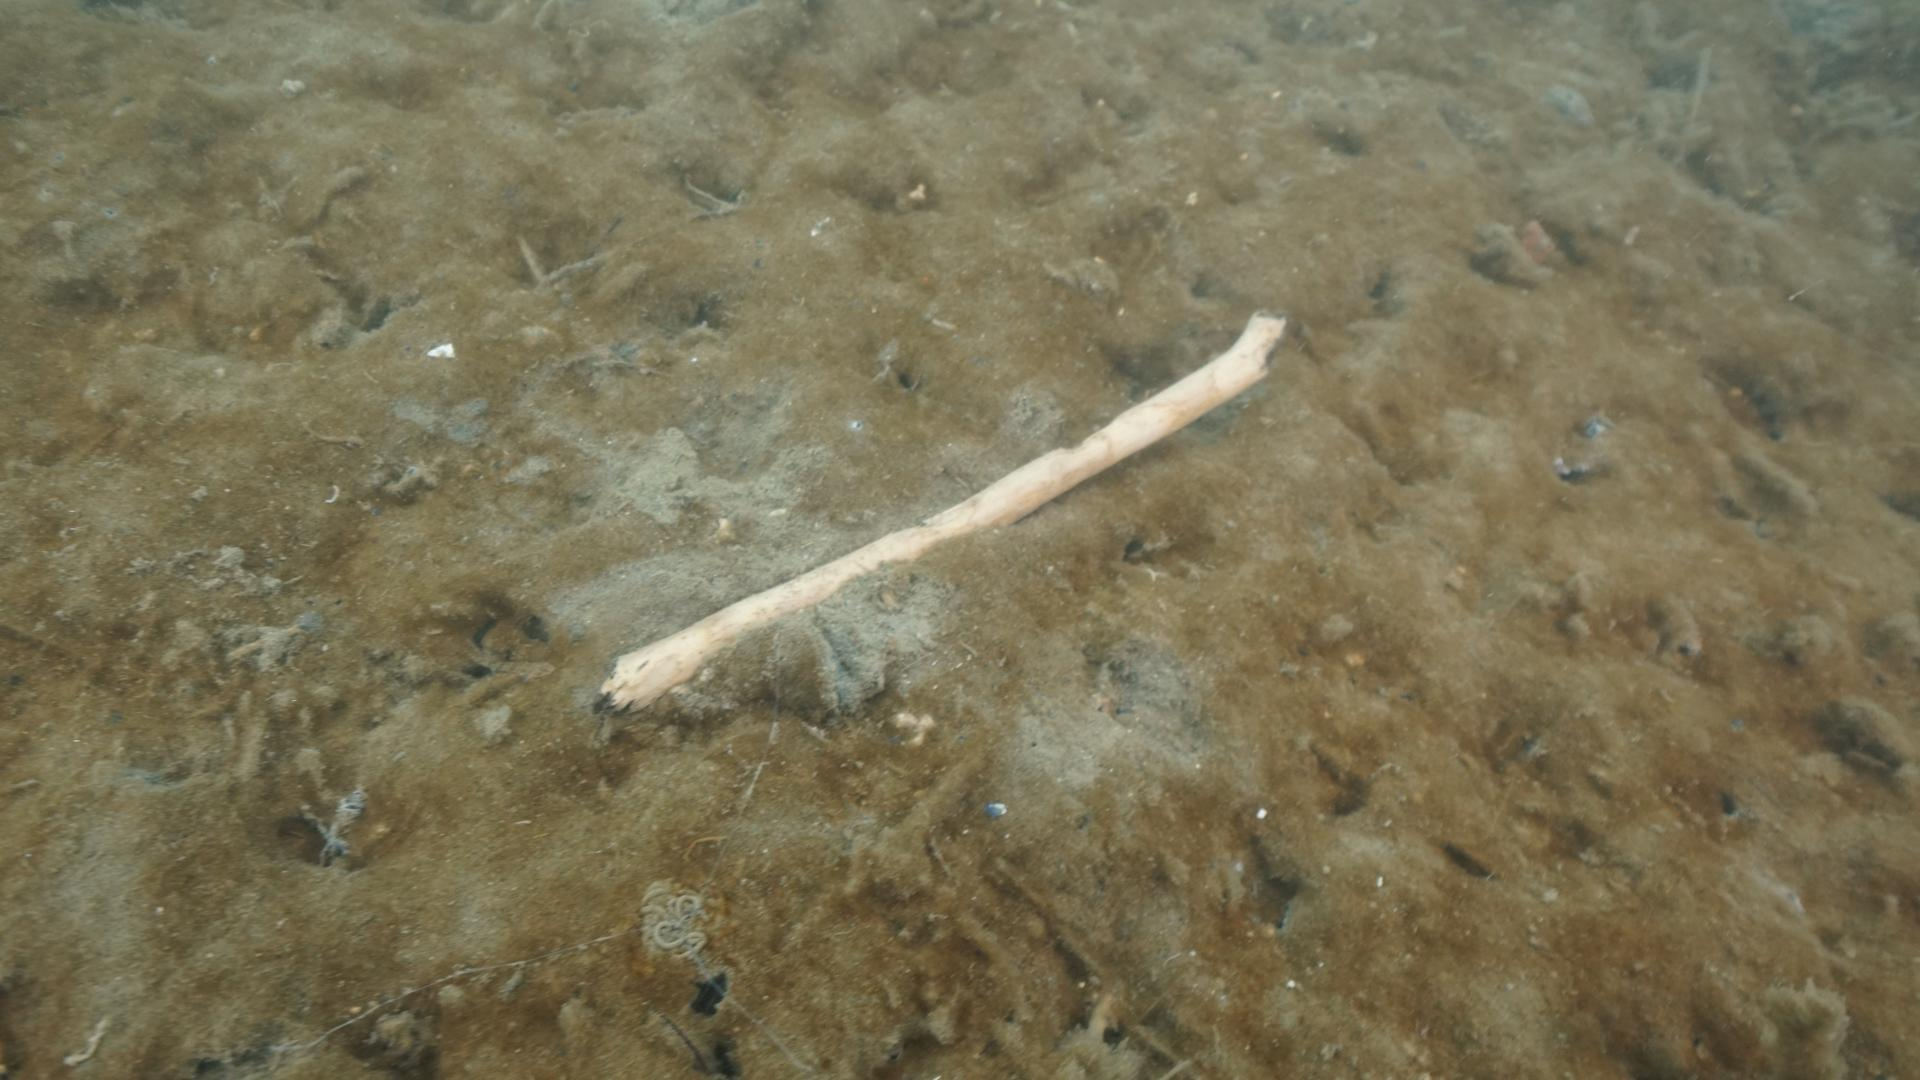wood: (591, 313, 1283, 708)
